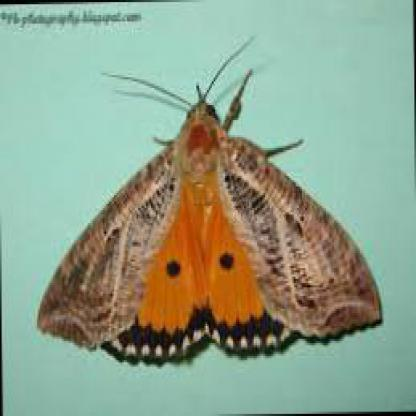fruit sucking moth: (36, 97, 384, 369)
